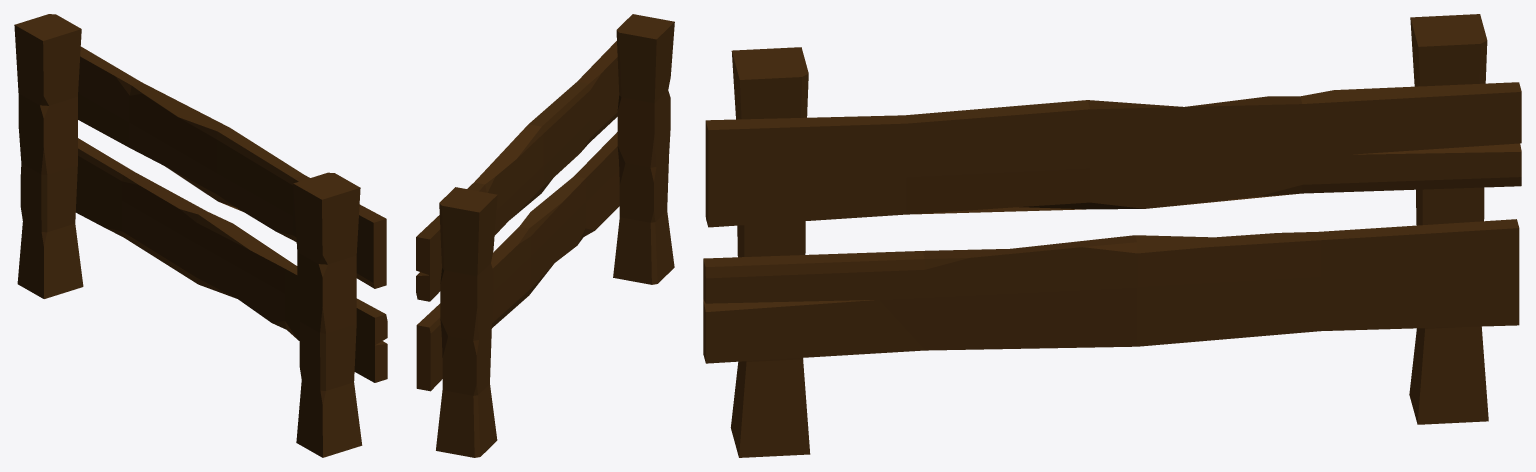
File: fence_s3.fbx
3 renders of one model, left to right at view 1: azimuth 30°, elevation 25°; view 2: azimuth 150°, elevation 25°; view 3: azimuth 270°, elevation 25°, orthographic. The views are drawn at different scales.
Parts seen in each view (by area): view 1: Plane.100; view 2: Plane.100; view 3: Plane.100.
Boxes of the visible parts, <box> form: Plane.100: <box>14,14,387,457</box>; Plane.100: <box>416,14,674,457</box>; Plane.100: <box>703,14,1521,457</box>.
Bounding box in the file's own units: 92.21 × 210 × 414.
